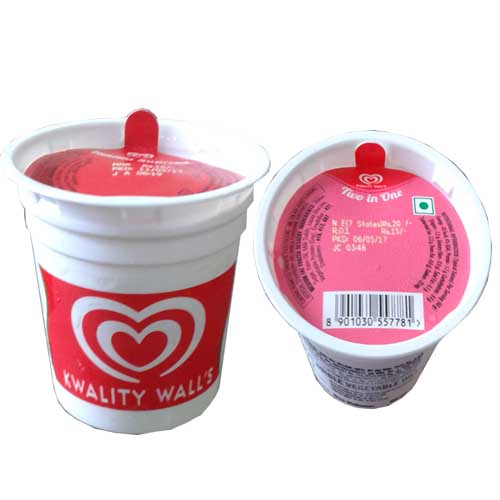Kwality_Walls: (62, 285, 215, 385), (351, 172, 386, 191)
